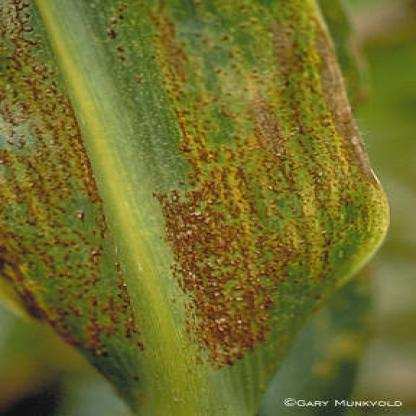corn rust leaf: (1, 1, 400, 400)
